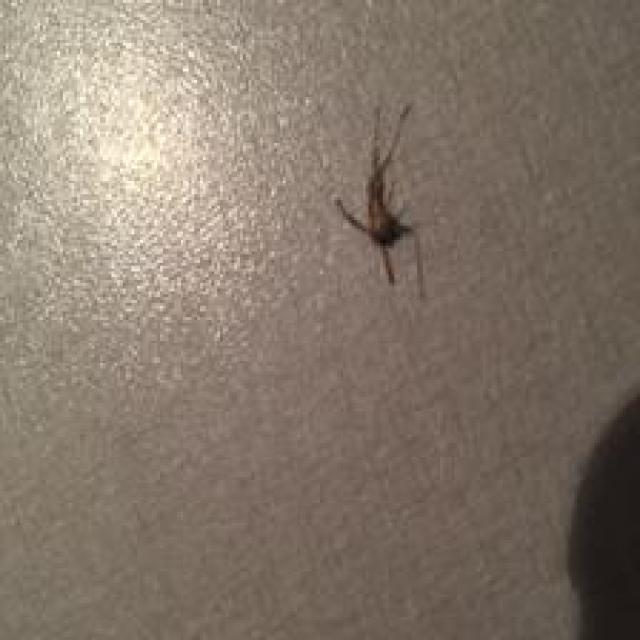Culex: (333, 99, 427, 298)
